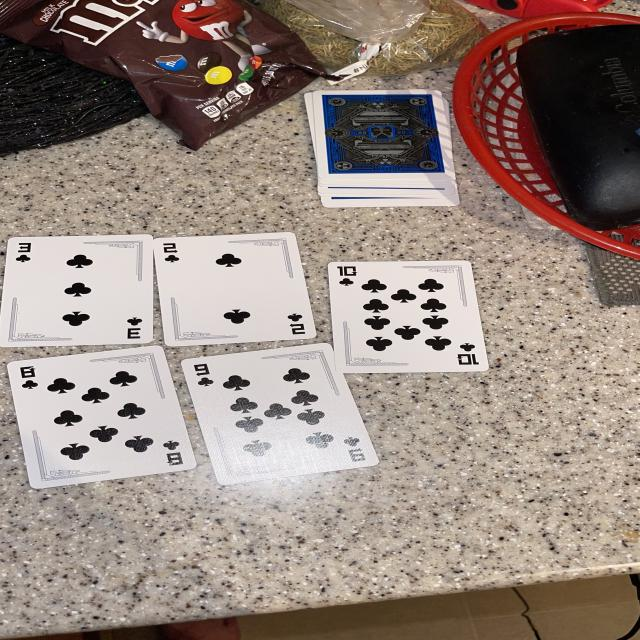10 of clubs: (329, 260, 489, 374)
2 of clubs: (153, 232, 316, 346)
3 of clubs: (0, 235, 153, 348)
8 of clubs: (7, 346, 196, 489)
9 of clubs: (180, 344, 380, 485)
card back: (313, 90, 453, 179)
